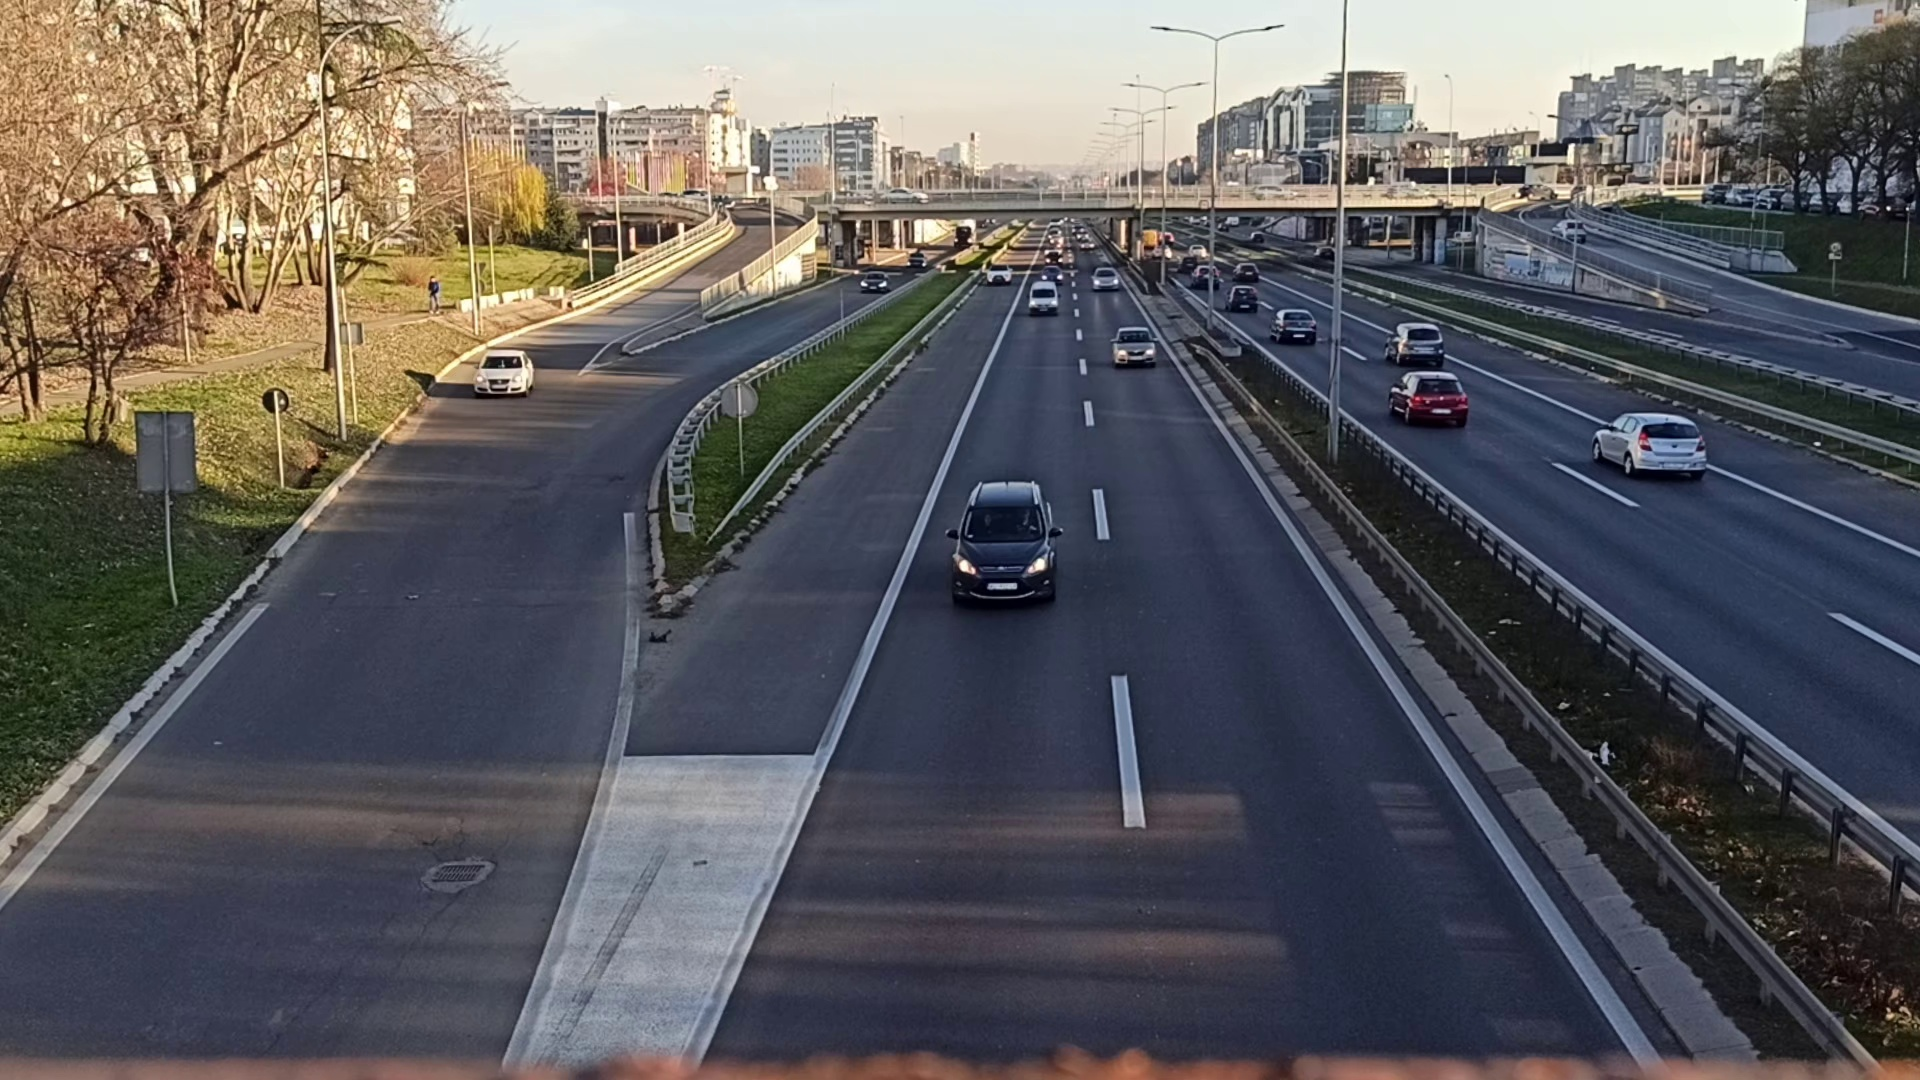car: (955, 479, 1055, 608), (1592, 409, 1709, 480), (1389, 371, 1469, 429), (469, 345, 534, 396), (1379, 324, 1443, 365), (1108, 328, 1156, 367), (1269, 309, 1317, 342), (1029, 281, 1056, 314), (1088, 266, 1122, 291), (1226, 285, 1254, 311)
